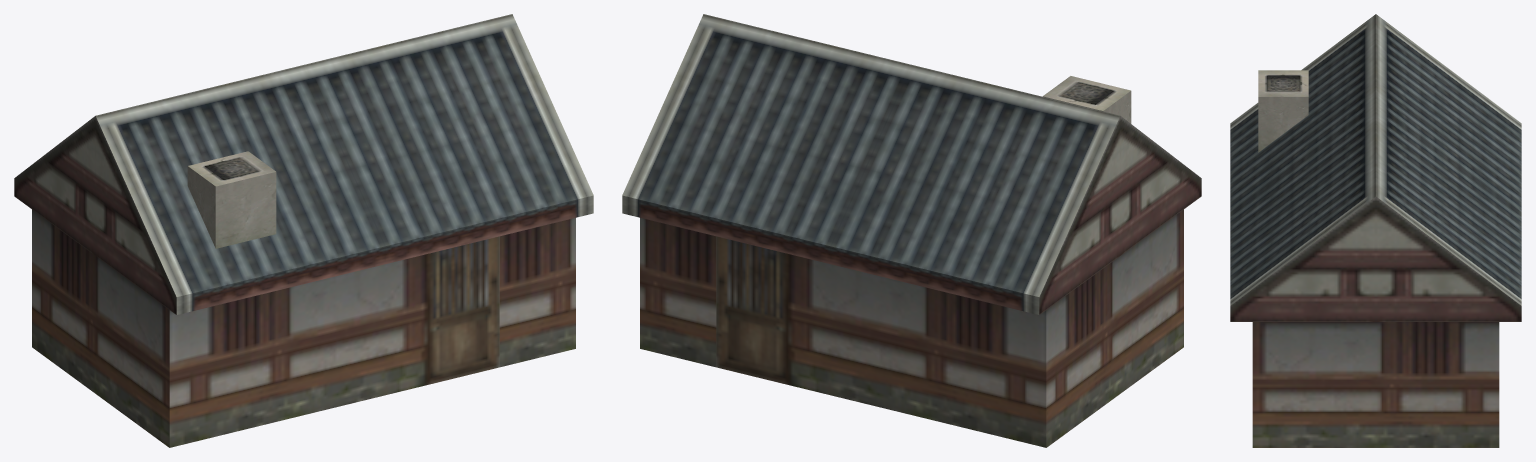
Rendered from minfang_3.fbx.
The picture shows the model from 3 angles, left to right: view 1: azimuth 30°, elevation 25°; view 2: azimuth 150°, elevation 25°; view 3: azimuth 270°, elevation 25°; orthographic projection. The views are drawn at different scales.
Parts seen in each view (by area): view 1: minfang_3; view 2: minfang_3; view 3: minfang_3.
Boxes of the visible parts, x1,y1,x2,y2 form: minfang_3: (14,14,593,447); minfang_3: (622,14,1201,447); minfang_3: (1230,14,1521,447).
Bounding box in the file's own units: 3.51 × 2.28 × 2.37.
